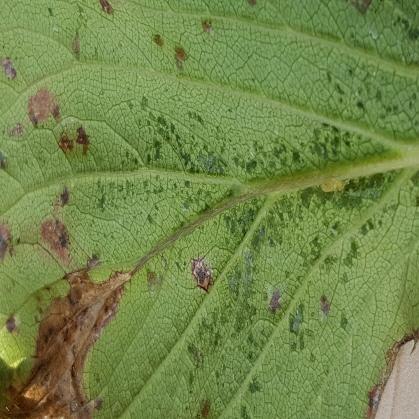Angular Leafspot: (0, 0, 418, 418)
